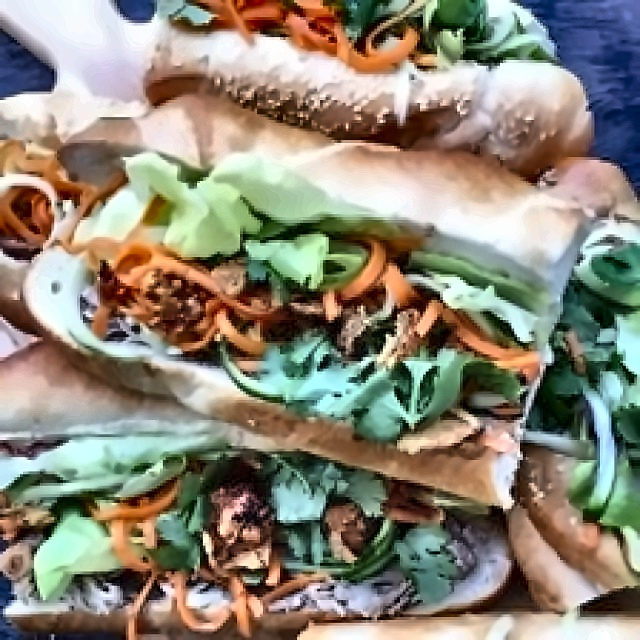bread: (101, 86, 582, 214), (164, 32, 576, 152), (67, 35, 339, 198), (6, 341, 343, 453), (330, 132, 576, 274), (298, 411, 553, 500), (487, 448, 619, 608), (505, 110, 640, 215), (16, 233, 81, 358)
